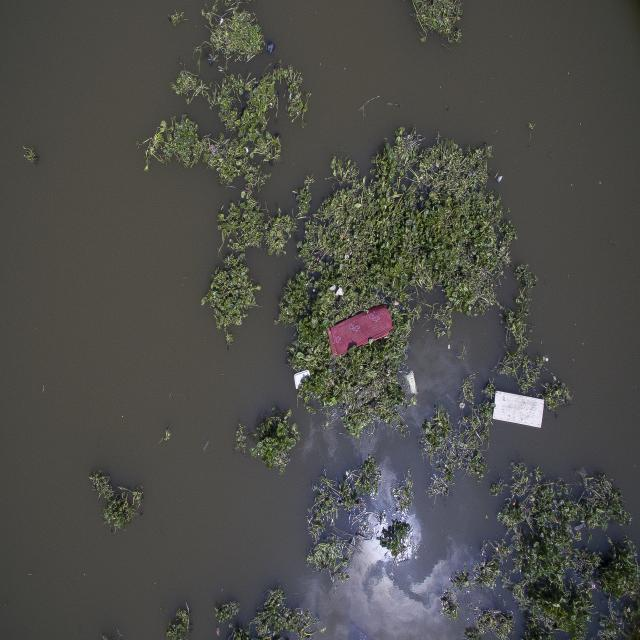plastic: (489, 374, 554, 447), (323, 303, 402, 362), (287, 366, 315, 394), (330, 274, 350, 302), (404, 369, 419, 406)
